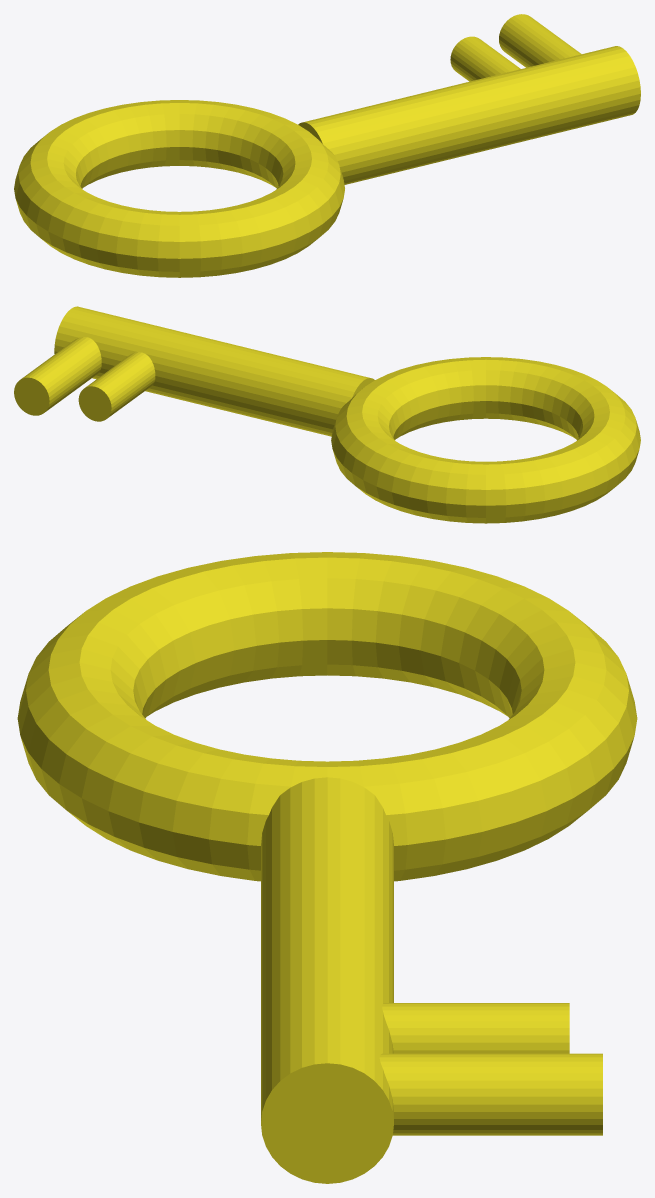
Rendered from Key.fbx.
3 views of the same model, one above another, from view 1: azimuth 30°, elevation 25°; view 2: azimuth 150°, elevation 25°; view 3: azimuth 270°, elevation 25° (orthographic). The views are drawn at different scales.
Visible parts, largest first — view 1: Key; view 2: Key; view 3: Key.
Part boxes in pixels (bbox=[...]): Key: bbox=[14, 14, 640, 277]; Key: bbox=[14, 306, 640, 523]; Key: bbox=[17, 552, 637, 1183].
Size of the model in its own units: 183 by 19.18 by 89.26.
